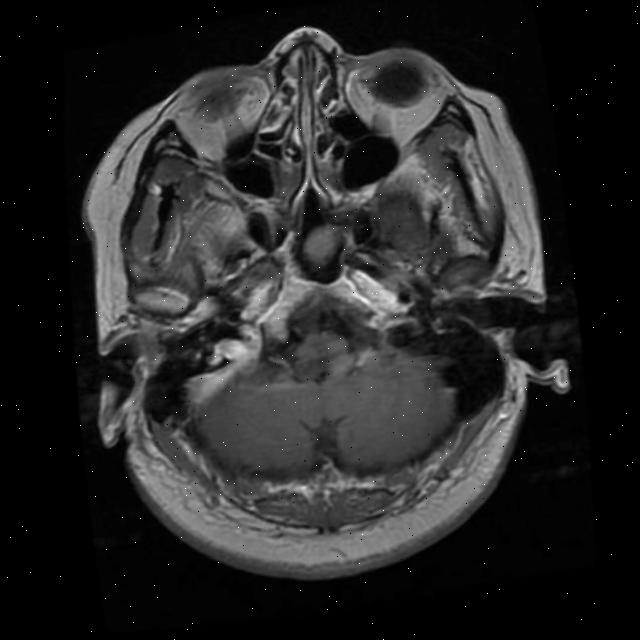Pituitary: (299, 219, 341, 271)
